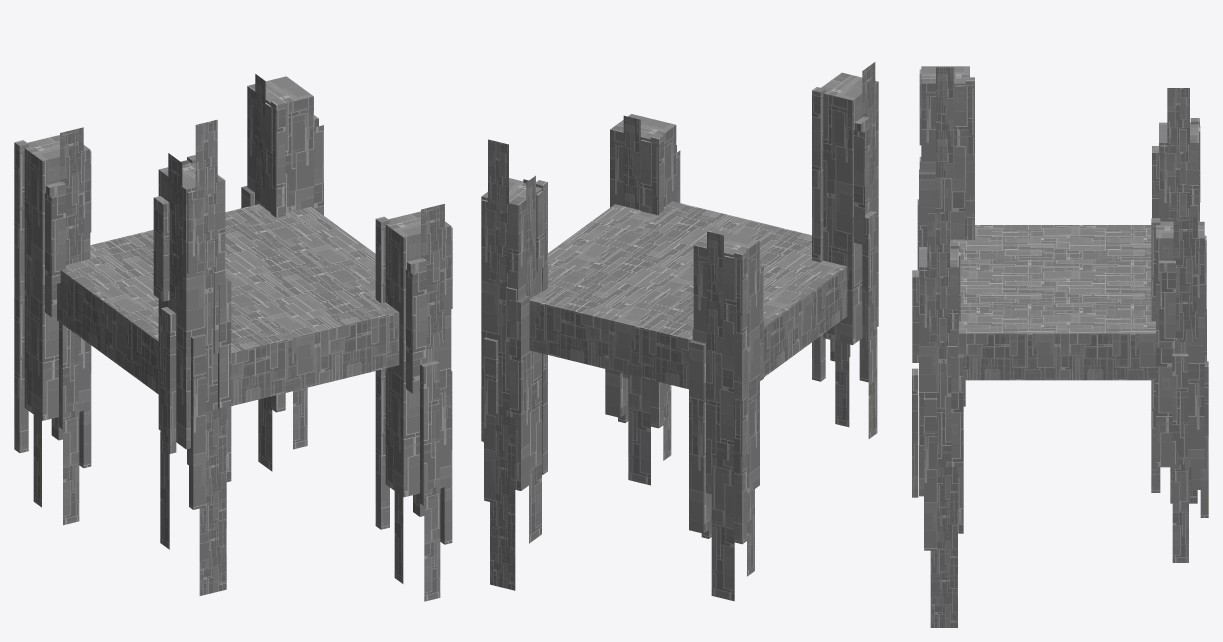
The model's file is SM_architecture_module_13.glb.
3 renders of one model, left to right at view 1: azimuth 30°, elevation 25°; view 2: azimuth 150°, elevation 25°; view 3: azimuth 270°, elevation 25°, orthographic. The views are drawn at different scales.
Parts seen in each view (by area): view 1: SM_architecture_module_13; view 2: SM_architecture_module_13; view 3: SM_architecture_module_13.
Part boxes in pixels (x1=…): SM_architecture_module_13: x1=14, y1=74, x2=452, y2=601; SM_architecture_module_13: x1=481, y1=62, x2=878, y2=601; SM_architecture_module_13: x1=912, y1=66, x2=1208, y2=627.
Bounding box in the file's own units: 11.32 × 21.57 × 11.72.
Materials: 2 (2 with a texture image).
